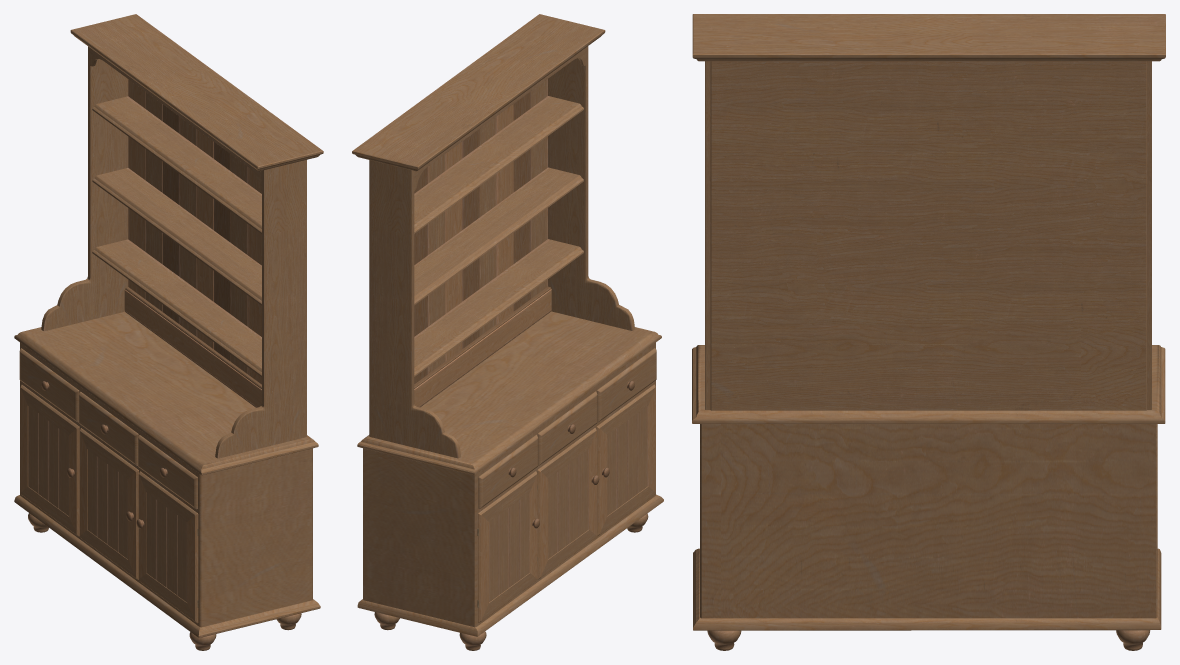
File: kitchen_dresser.glb
3 renders of one model, left to right at view 1: azimuth 30°, elevation 25°; view 2: azimuth 150°, elevation 25°; view 3: azimuth 270°, elevation 25°, orthographic. The views are drawn at different scales.
Visible parts, largest first — view 1: pCube27, pCube28, pCube65, pCube59, pCube67, pCube58, pCube66, pCube50, pCube63, pCube62, pCube47, pCube33 (+13 smaller); view 2: pCube27, pCube28, pCube66, pCube59, pCube67, pCube58, pCube65, pCube50, pCube62, pCube63, pCube47, pCube33 (+13 smaller); view 3: pasted__pCube37, pCube27, pCube59, pCube28, pCube33, pCube65, pCube66, pSphere22.
Part boxes in pixels (x1,y1,x2,y2): pCube27: (20, 342, 312, 627); pCube28: (14, 311, 318, 475); pCube65: (215, 160, 306, 458); pCube59: (70, 14, 323, 171); pCube67: (20, 385, 198, 623); pCube58: (28, 406, 187, 602); pCube66: (41, 46, 128, 331); pCube50: (92, 239, 261, 376); pCube63: (92, 96, 261, 233); pCube62: (92, 168, 261, 305); pCube47: (124, 287, 261, 407); pCube33: (14, 495, 320, 637); pCube27: (363, 342, 655, 627); pCube28: (357, 311, 661, 475); pCube66: (369, 160, 460, 458); pCube59: (352, 14, 605, 171); pCube67: (478, 384, 655, 622); pCube58: (489, 406, 647, 602); pCube65: (548, 46, 634, 330); pCube50: (414, 239, 583, 376); pCube62: (414, 167, 583, 305); pCube63: (414, 96, 583, 233); pCube47: (414, 286, 551, 407); pCube33: (357, 494, 663, 636); pasted__pCube37: (710, 61, 1146, 410); pCube27: (700, 424, 1157, 618); pCube59: (692, 14, 1165, 61); pCube28: (692, 345, 1165, 423); pCube33: (693, 548, 1161, 630); pCube65: (705, 61, 710, 409); pCube66: (1147, 61, 1151, 409); pSphere22: (707, 630, 1149, 650).
Bounding box in the file's own units: 0.6385 × 2.28 × 1.61.
1 material, 1 textured.
